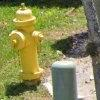a fire hydrant: (8, 6, 42, 88)
